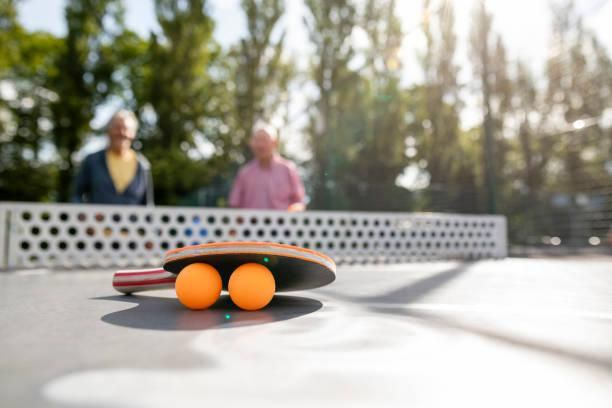ball_pingpong: (227, 261, 278, 311), (173, 263, 224, 309)
